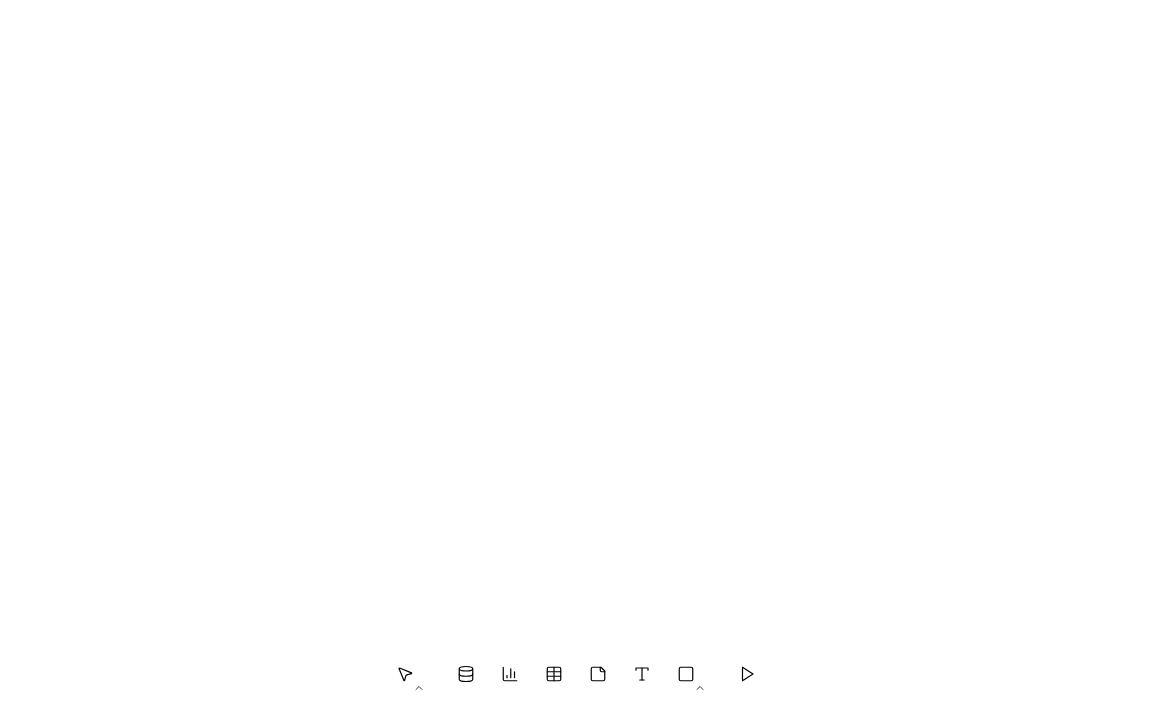
it: CanvasToolbar › dismisses an open menu when clicking outside the toolbar (e.g. the canvas)
Click the button with test id "canvas-tool-shape-caret".
click(700, 688)  # box [691,679,709,697]
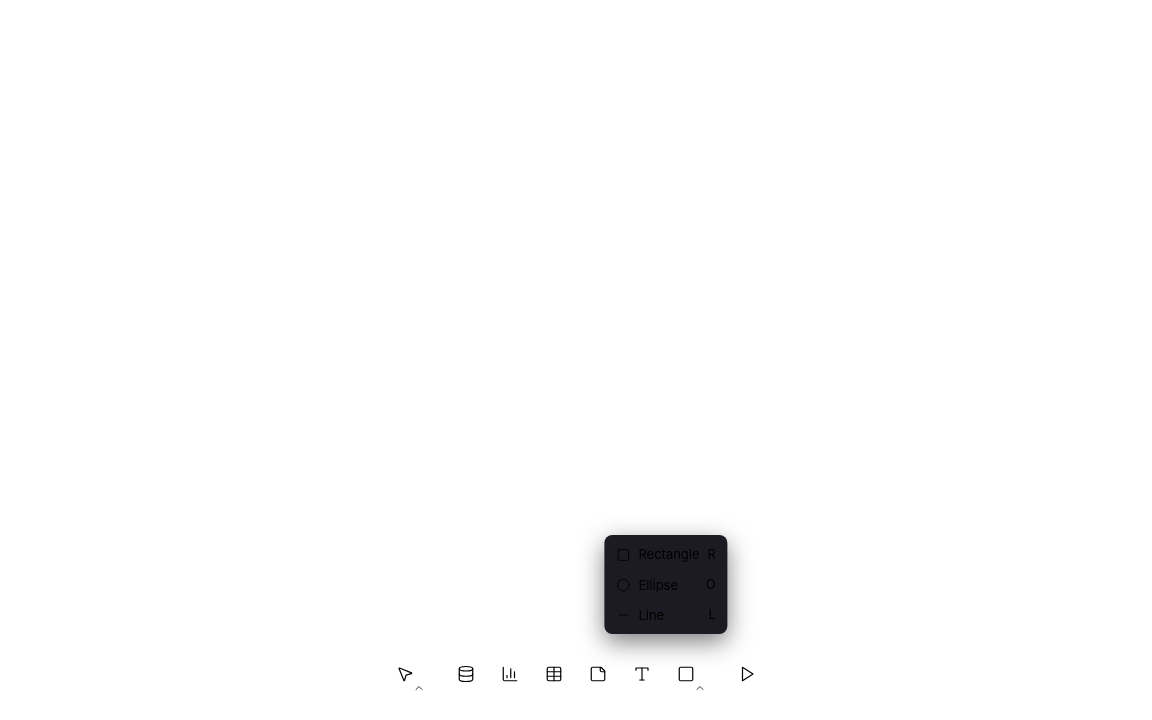
Result: the menu item with test id "canvas-tool-shape-ellipse" is shown at [616,577,716,593]
// A mousedown anywhere outside the toolbar closes the menu.
Press the mouse on the element showing "Rectangle R Ellipse O Line L" at (576, 360), box [0,0,1151,719]
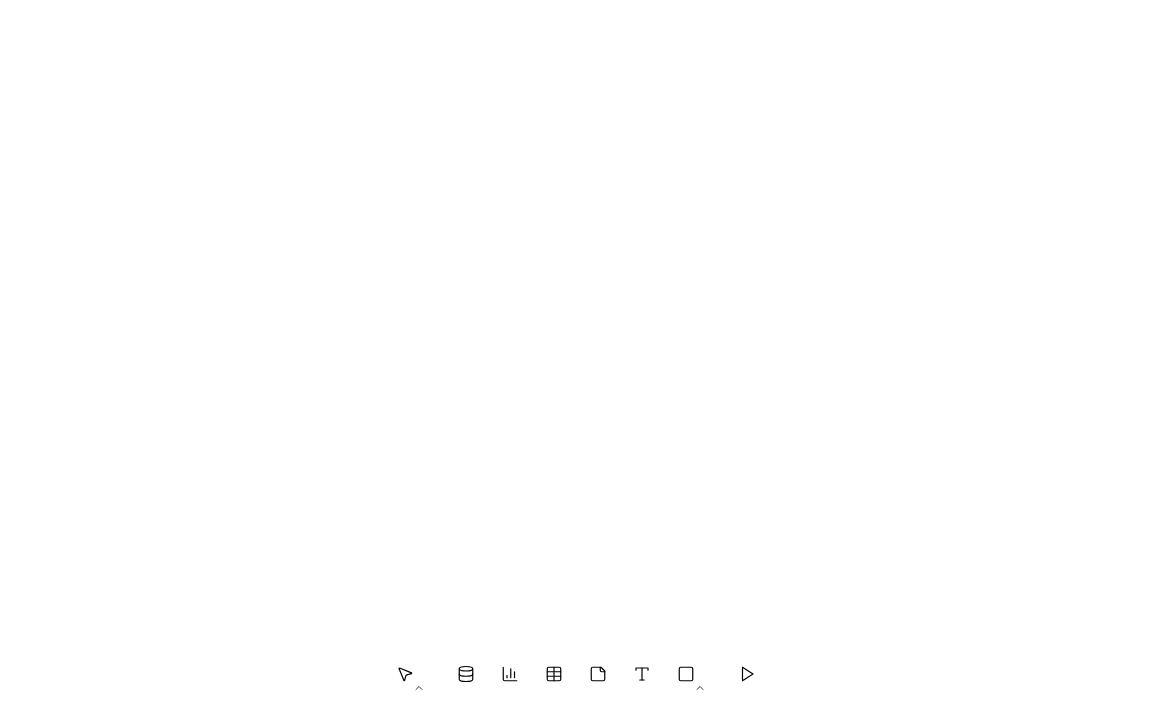
Result: the menu item with test id "canvas-tool-shape-ellipse" is gone
